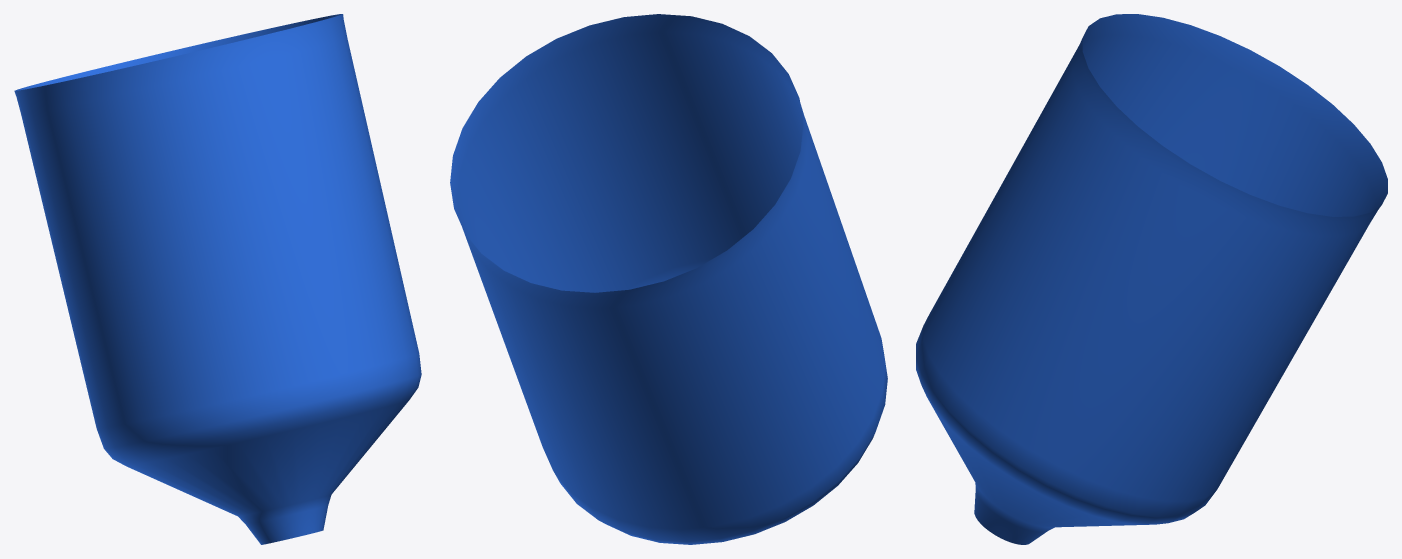
File: glass.fbx
3 renders of one model, left to right at view 1: azimuth 30°, elevation 25°; view 2: azimuth 150°, elevation 25°; view 3: azimuth 270°, elevation 25°, orthographic. The views are drawn at different scales.
Parts seen in each view (by area): view 1: Cylinder.001; view 2: Cylinder.001; view 3: Cylinder.001.
Boxes of the visible parts, <box> form: Cylinder.001: <box>14,14,421,544</box>; Cylinder.001: <box>450,14,887,544</box>; Cylinder.001: <box>916,14,1387,544</box>.
Bounding box in the file's own units: 0.7813 × 1.24 × 1.07.
